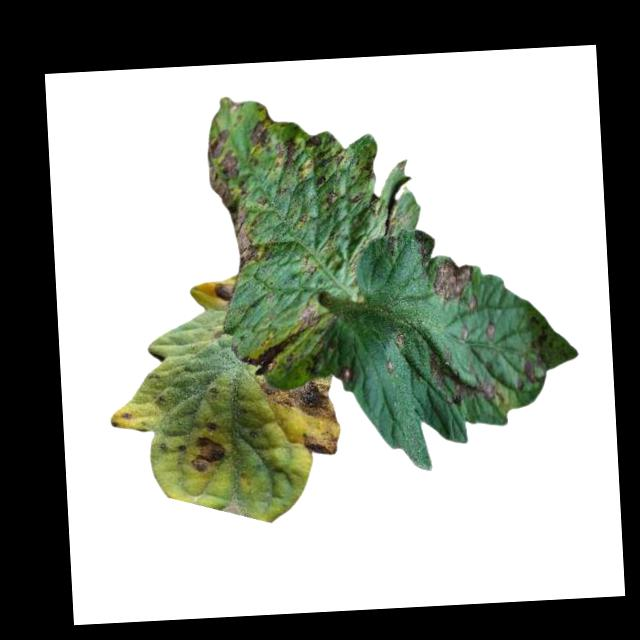Early_blight: (206, 128, 261, 274), (237, 302, 327, 376), (429, 345, 504, 410), (260, 374, 338, 429), (273, 131, 347, 187), (432, 256, 478, 315), (178, 434, 227, 471), (302, 426, 341, 455), (513, 351, 540, 391), (251, 113, 274, 147), (213, 282, 237, 303), (483, 319, 499, 342), (339, 365, 354, 386), (322, 189, 337, 206), (203, 418, 219, 433)
